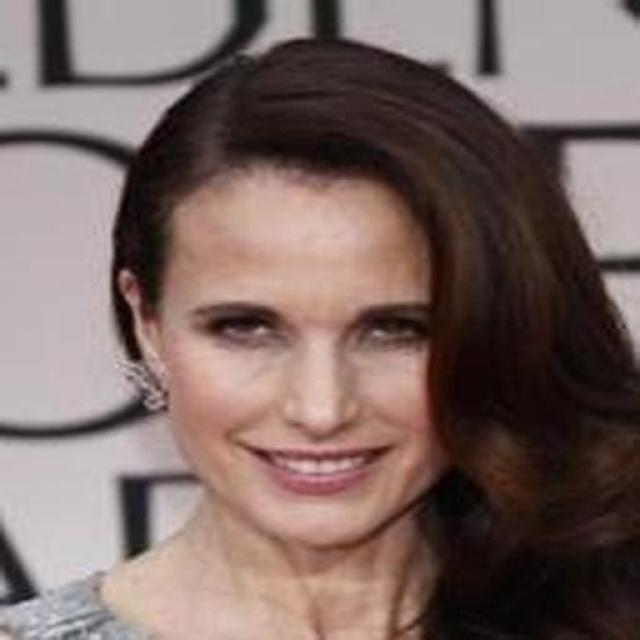bareface: (133, 54, 544, 538)
